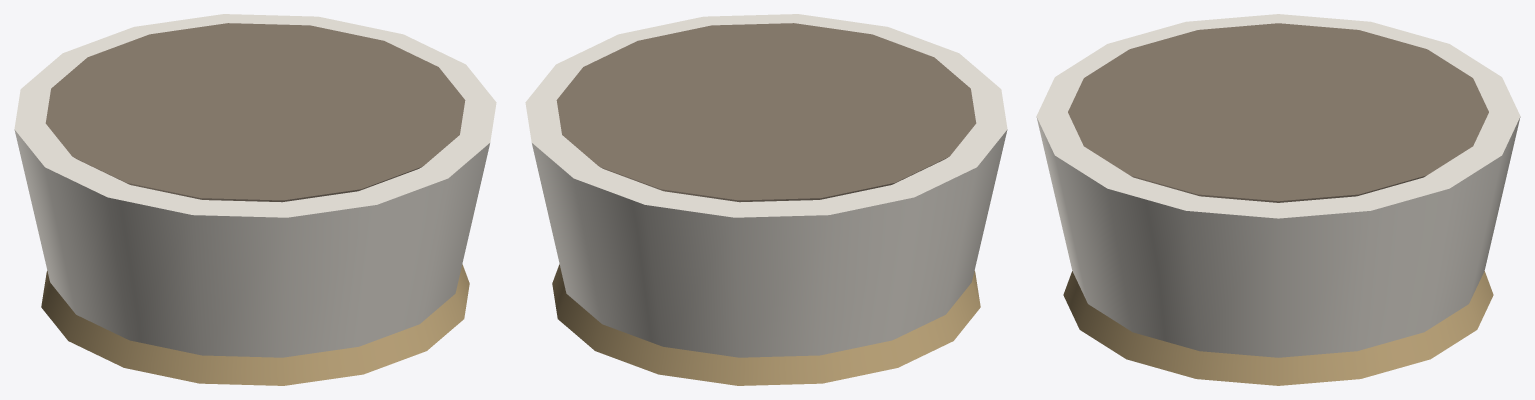
File: SV_MP_SKU_07_v01_lod1.glb
3 renders of one model, left to right at view 1: azimuth 30°, elevation 25°; view 2: azimuth 150°, elevation 25°; view 3: azimuth 270°, elevation 25°, orthographic.
Visible parts, largest first — view 1: mproto_SV_MP_SKU_07_v01; view 2: mproto_SV_MP_SKU_07_v01; view 3: mproto_SV_MP_SKU_07_v01.
Part boxes in pixels (x1=…): mproto_SV_MP_SKU_07_v01: x1=14, y1=14, x2=496, y2=385; mproto_SV_MP_SKU_07_v01: x1=525, y1=14, x2=1007, y2=385; mproto_SV_MP_SKU_07_v01: x1=1036, y1=14, x2=1520, y2=385.
Bounding box in the file's own units: 0.054 × 0.0225 × 0.054.
